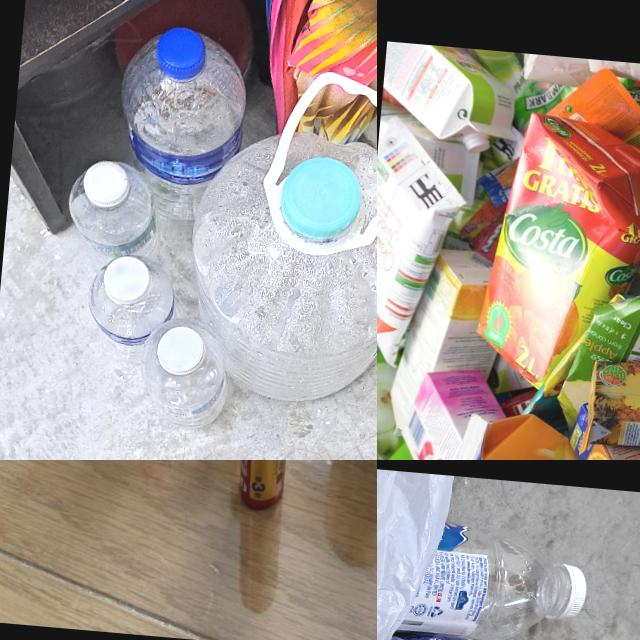bateria: (229, 460, 305, 512)
caixinha: (469, 106, 640, 406), (377, 113, 476, 371), (378, 40, 524, 157), (447, 406, 603, 460)
garrafa plástica: (177, 119, 377, 413), (107, 26, 257, 218), (401, 520, 565, 640), (61, 154, 165, 268), (138, 320, 234, 424), (79, 253, 181, 349)
sacola plástica: (377, 460, 464, 640)
tampa plástica: (280, 154, 366, 241), (78, 154, 135, 212), (550, 555, 592, 623), (100, 252, 150, 309), (153, 325, 205, 378), (154, 23, 204, 76)
